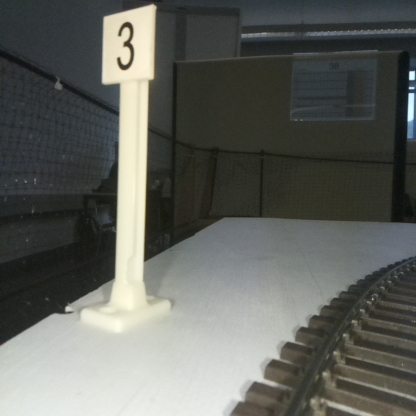white-info-3: (102, 7, 154, 325)
